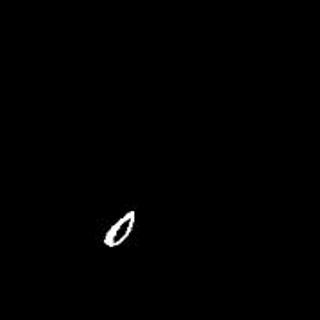zero: (101, 208, 141, 246)
